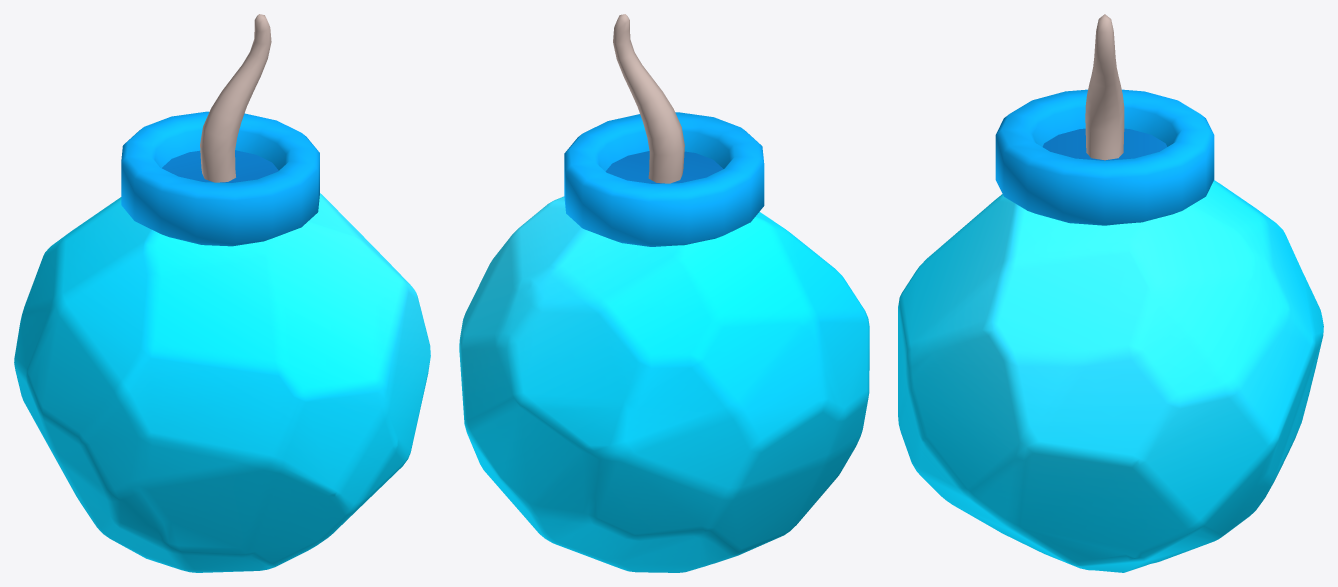
The model's file is ice_bomb_001.glb.
3 views of the same model, side by side, from view 1: azimuth 30°, elevation 25°; view 2: azimuth 150°, elevation 25°; view 3: azimuth 270°, elevation 25° (orthographic). The views are drawn at different scales.
Parts seen in each view (by area): view 1: ice_bomb_001; view 2: ice_bomb_001; view 3: ice_bomb_001.
Boxes of the visible parts, <box> form: ice_bomb_001: <box>14,14,430,572</box>; ice_bomb_001: <box>459,14,869,572</box>; ice_bomb_001: <box>898,14,1323,572</box>.
Size of the model in its own units: 1.1 by 1.55 by 1.08.
1 material, 1 textured.
